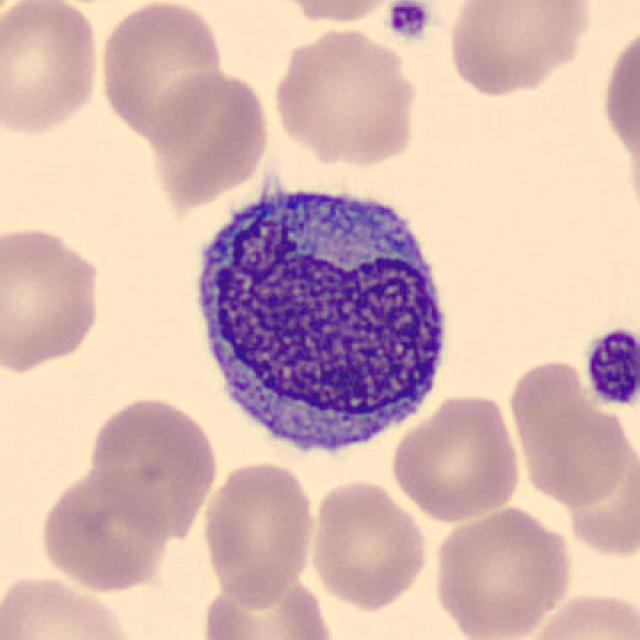Monocyte: (178, 164, 460, 471)
Platelets: (579, 324, 640, 410), (382, 0, 433, 42)
RBC: (269, 21, 423, 169), (506, 351, 636, 511), (428, 502, 576, 638), (86, 393, 220, 541), (94, 0, 230, 145), (388, 389, 524, 524), (146, 65, 274, 208), (197, 458, 320, 605), (36, 466, 176, 594), (306, 476, 432, 612), (0, 220, 107, 378), (443, 0, 597, 99), (0, 0, 105, 139), (0, 571, 142, 640), (199, 571, 338, 640), (598, 16, 638, 183), (521, 587, 638, 640), (263, 0, 412, 26)
